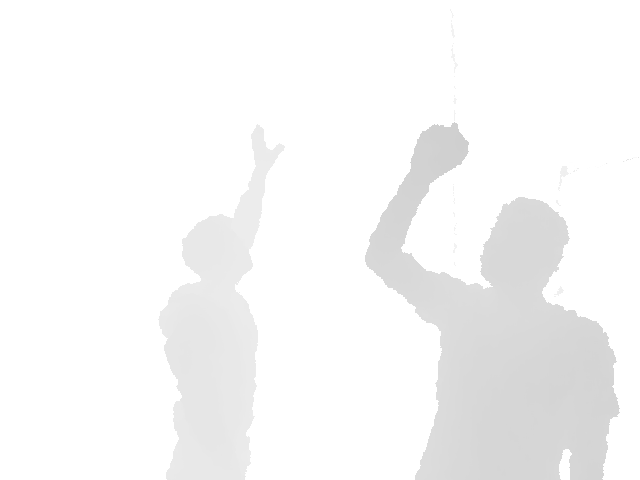hand: (410, 123, 469, 187), (250, 125, 284, 172)
head: (480, 196, 570, 303), (181, 213, 254, 288)
person: (364, 123, 620, 480), (156, 125, 285, 480)
